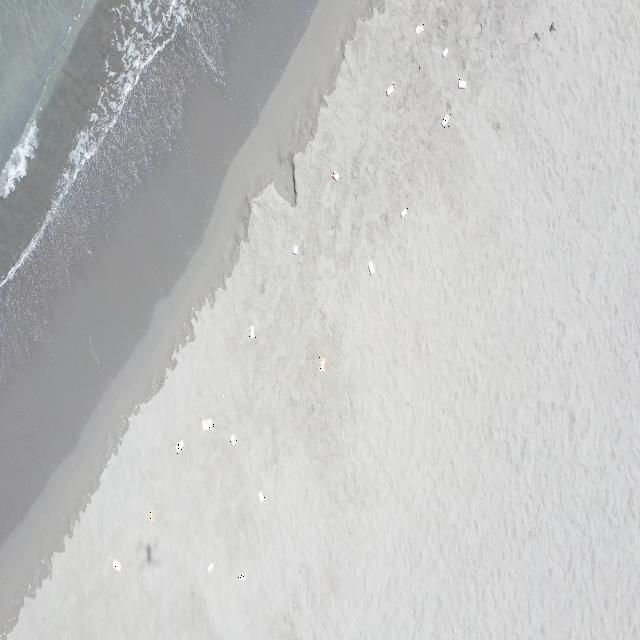Garbage: (201, 417, 212, 430), (440, 112, 448, 127), (111, 557, 119, 571), (248, 324, 255, 339), (175, 440, 183, 452), (386, 83, 393, 96), (457, 79, 466, 88), (318, 355, 323, 371), (367, 260, 372, 275), (415, 24, 424, 32), (331, 171, 339, 180), (292, 244, 298, 255), (400, 207, 407, 216), (236, 573, 244, 580), (231, 433, 236, 444), (148, 511, 154, 520), (207, 563, 212, 572), (259, 491, 263, 502), (442, 48, 447, 56)
